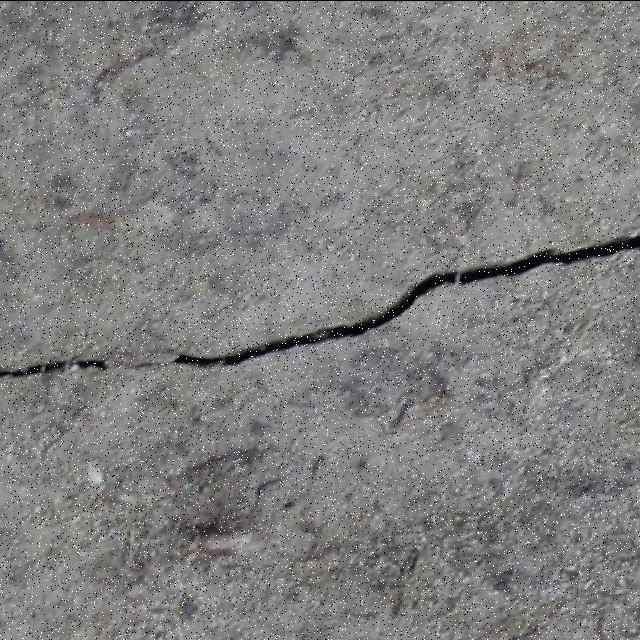Crack: (1, 230, 638, 379)
